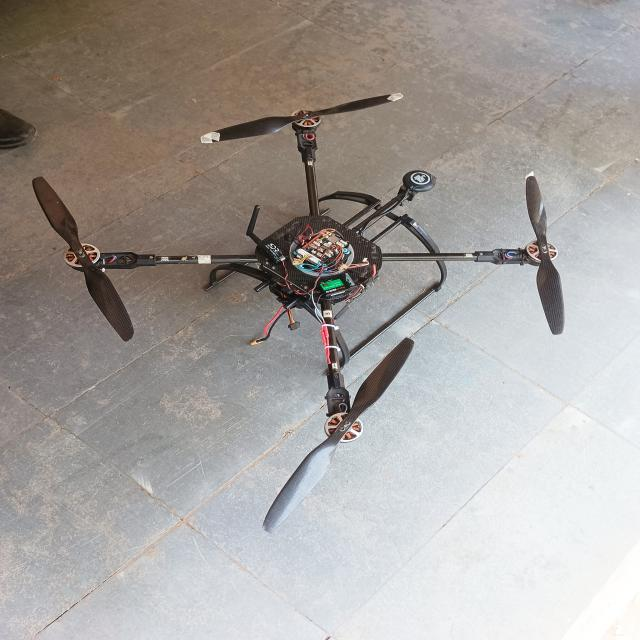drone: (0, 76, 597, 536)
